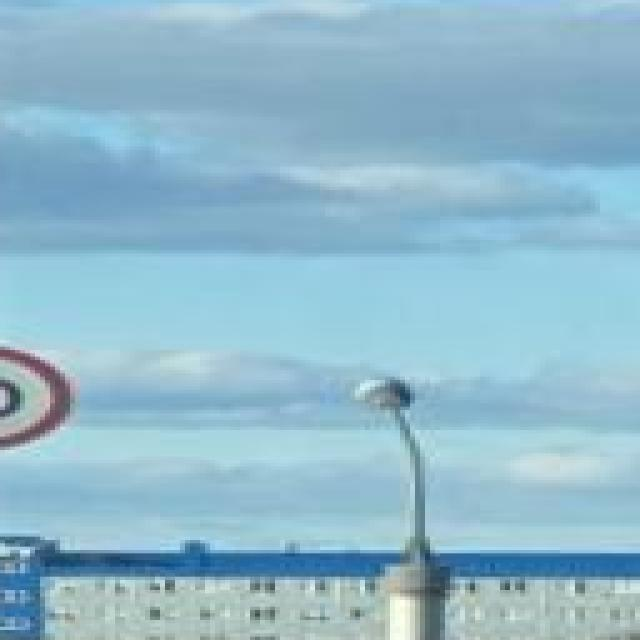Speed Limit -90-: (0, 337, 80, 460)
